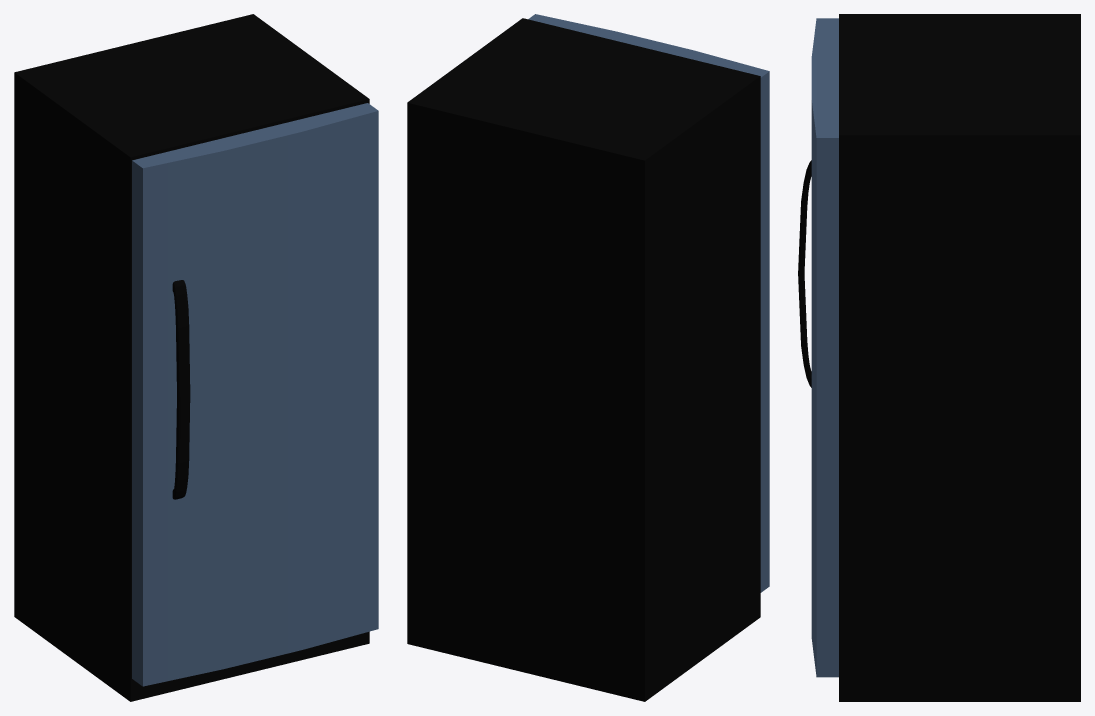
Rendered from fridge_01.fbx.
3 views of the same model, side by side, from view 1: azimuth 30°, elevation 25°; view 2: azimuth 150°, elevation 25°; view 3: azimuth 270°, elevation 25° (orthographic). The views are drawn at different scales.
Visible parts, largest first — view 1: fridge_01; view 2: fridge_01; view 3: fridge_01.
Part boxes in pixels (x1,y1,x2,y2): fridge_01: [14, 14, 378, 701]; fridge_01: [407, 14, 769, 701]; fridge_01: [798, 14, 1080, 701].
Bounding box in the file's own units: 89.13 × 194 × 87.71.
